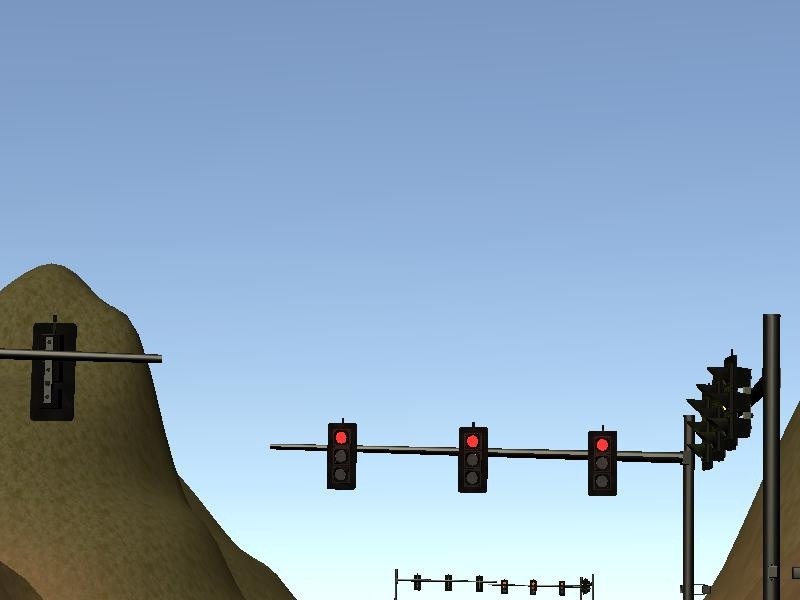red: (583, 426, 624, 502), (454, 420, 493, 497), (324, 420, 363, 494)
